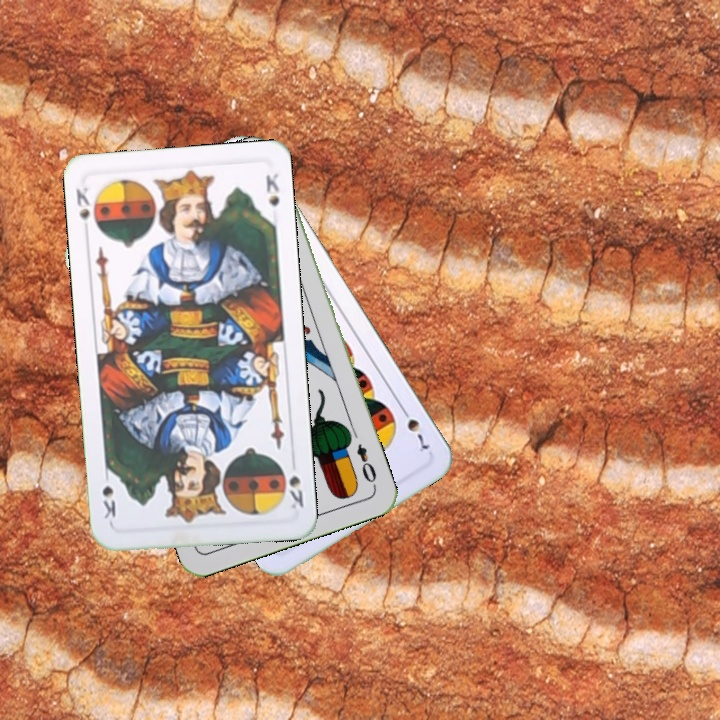EO: (352, 440, 379, 490)
S7: (396, 402, 431, 453)
SK: (71, 183, 92, 238), (285, 471, 306, 511)
